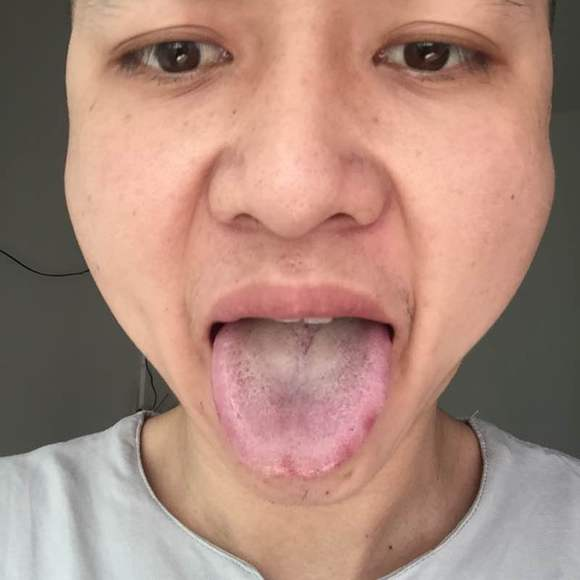baitaishe: (212, 319, 392, 479)
hongshe: (212, 319, 392, 479)
liewenshe: (302, 335, 313, 354)
